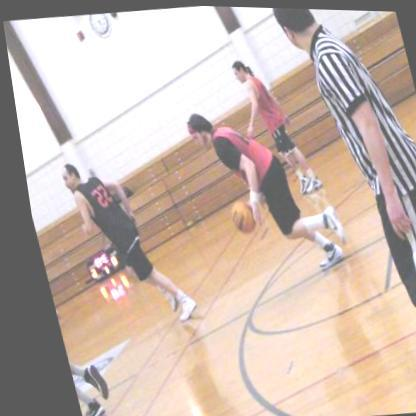basketball: (221, 198, 250, 233)
